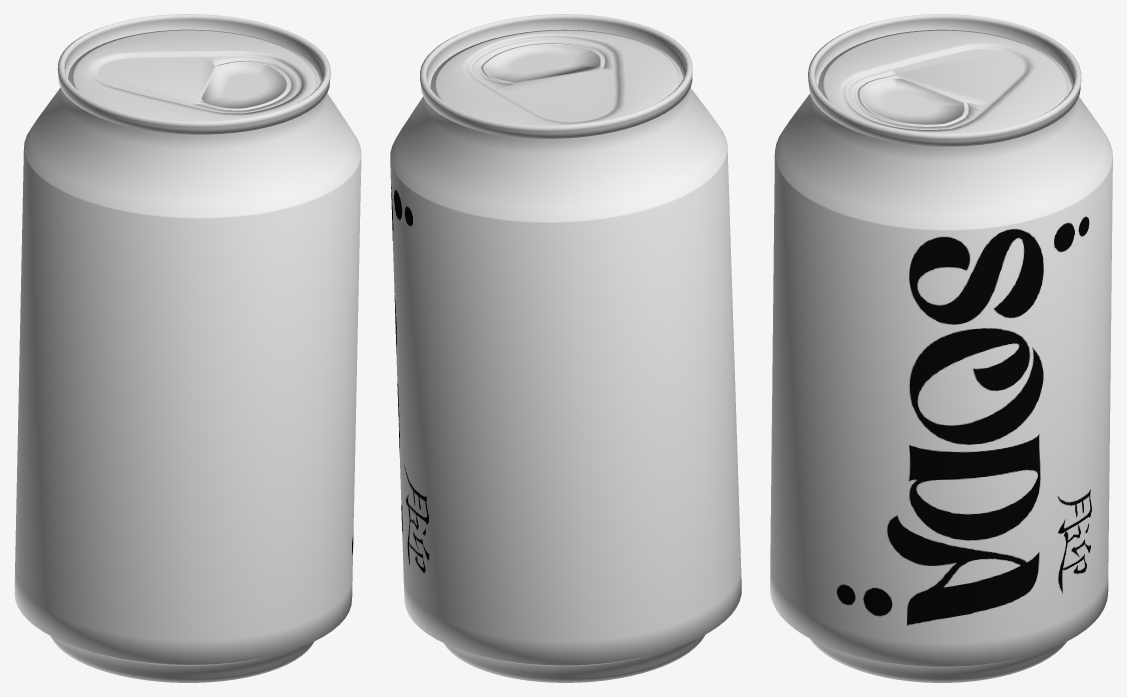
The model's file is can model.glb.
3 views of the same model, side by side, from view 1: azimuth 30°, elevation 25°; view 2: azimuth 150°, elevation 25°; view 3: azimuth 270°, elevation 25° (orthographic).
Visible parts, largest first — view 1: can.012; view 2: can.012; view 3: can.012.
Part boxes in pixels (<box>): can.012: <box>14,14,361,682</box>; can.012: <box>390,14,741,682</box>; can.012: <box>770,14,1112,682</box>.
Size of the model in its own units: 1.48 by 2.62 by 1.44.
2 materials, 1 textured.
